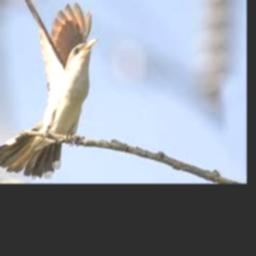Cuckoo: (0, 0, 99, 177)
